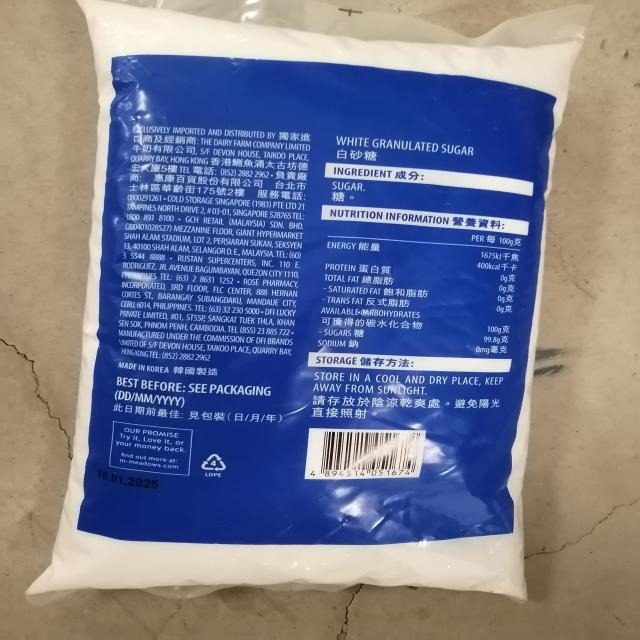object_name: (99, 13, 528, 593)
